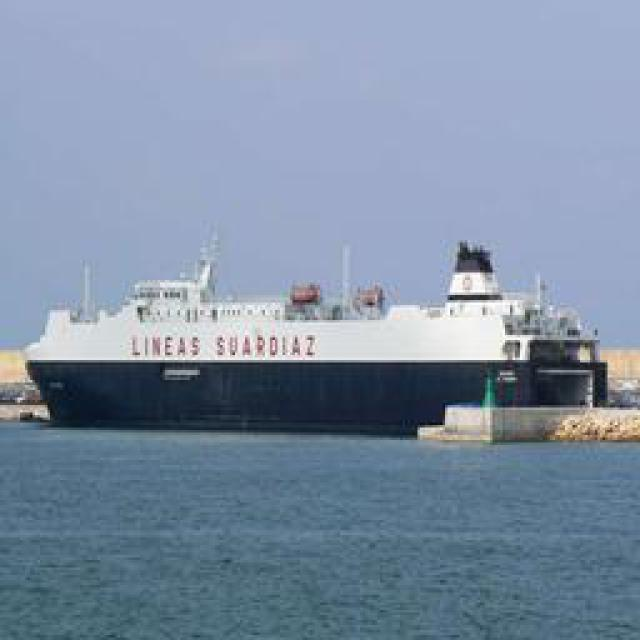Ship: (27, 215, 600, 425)
